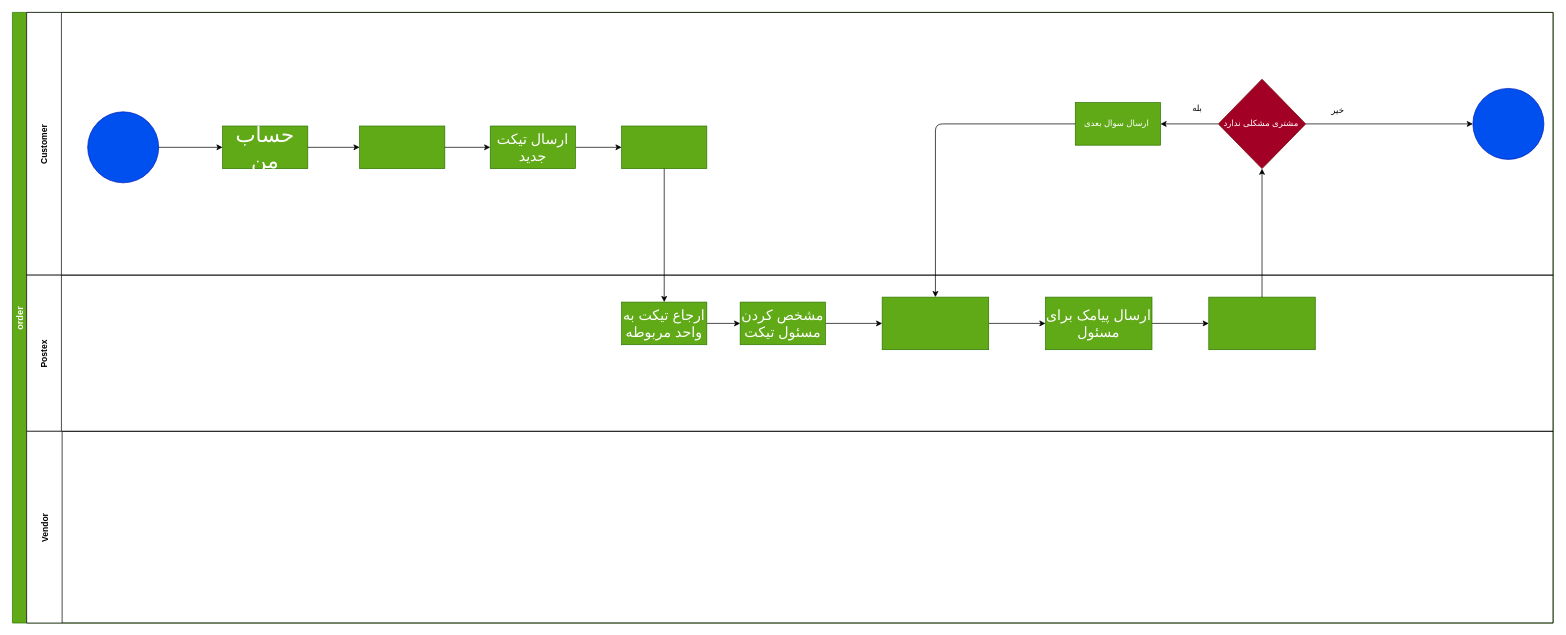
Some shapes in this 1566 by 635 pixel diagram are drawn without their labels. The shapes that lost their labels are listed below. From the top down, each one's centre as x and y in pixels, then its label:
At pixel 1508 123: "پایان".
At pixel 123 147: "شروع".
At pixel 402 147: "پشتیبانی".
At pixel 664 147: "پر کردن فرم تیکت".
At pixel 935 323: "فراخوانی notification service".
At pixel 1261 323: "پاسخ به تیکت".
